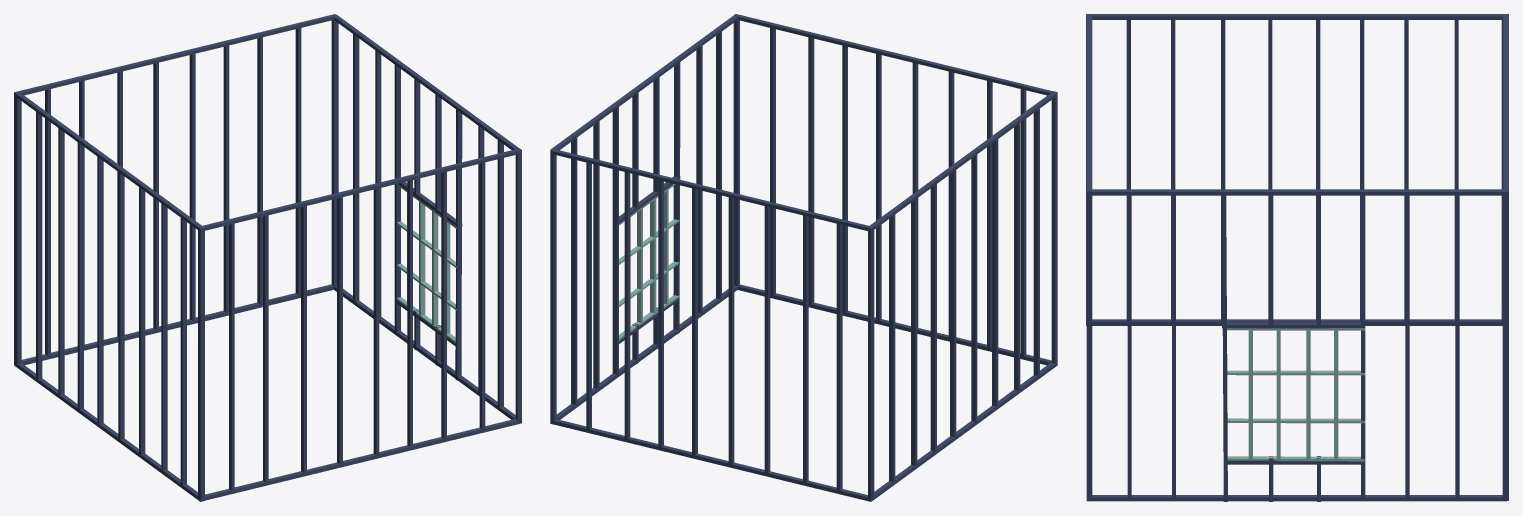
File: Cage_Puppy_Closed.fbx
3 renders of one model, left to right at view 1: azimuth 30°, elevation 25°; view 2: azimuth 150°, elevation 25°; view 3: azimuth 270°, elevation 25°, orthographic. The views are drawn at different scales.
Visible parts, largest first — view 1: Open_Puppy_Cage1; view 2: Open_Puppy_Cage1; view 3: Open_Puppy_Cage1.
Part boxes in pixels (x1,y1,x2,y2): Open_Puppy_Cage1: (14,14,521,501); Open_Puppy_Cage1: (550,14,1057,501); Open_Puppy_Cage1: (1086,14,1508,501).
Bounding box in the file's own units: 148 × 120 × 149.
